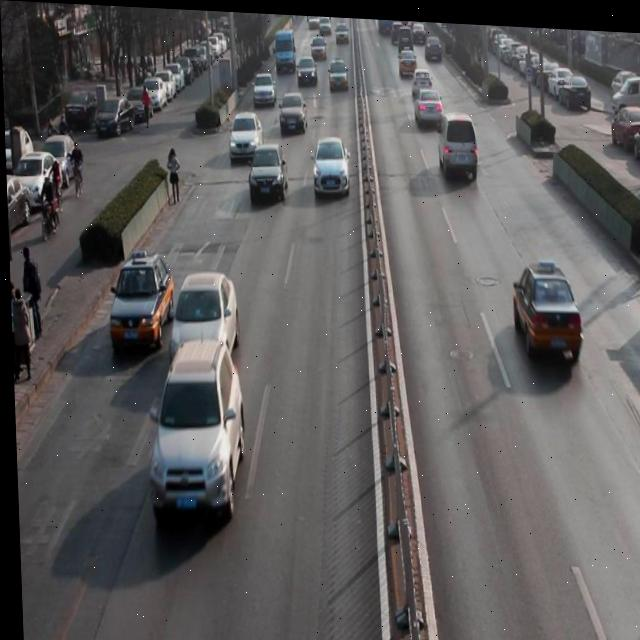car: (142, 341, 248, 525), (162, 266, 238, 365), (509, 255, 581, 356), (107, 250, 174, 349), (310, 133, 352, 198), (246, 140, 288, 204), (227, 111, 263, 160), (278, 89, 309, 130), (415, 82, 443, 121), (252, 69, 277, 106), (410, 60, 432, 97), (326, 56, 349, 91), (296, 53, 319, 84)
truck: (437, 106, 477, 179), (273, 25, 296, 72)
